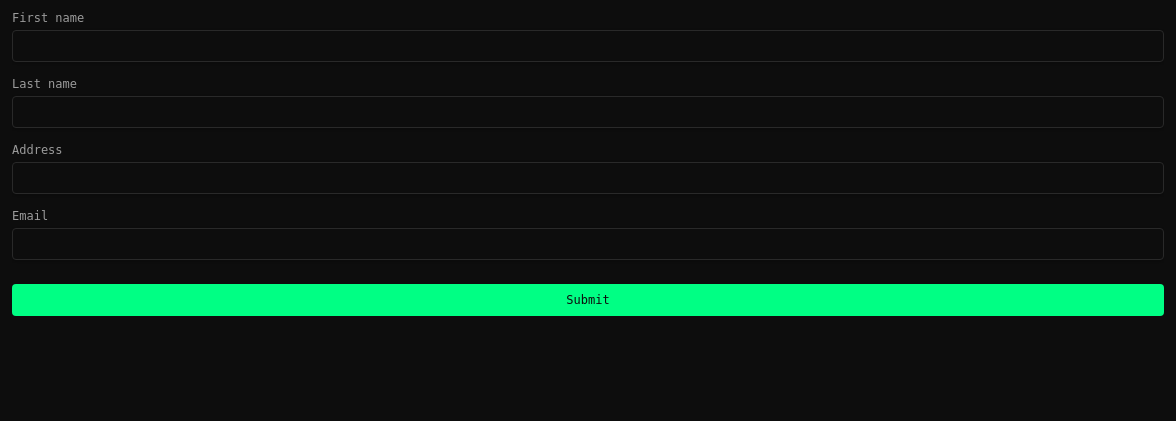
RegistrationForm › RegistrationForm - submit with empty fields - shows inline errors
Click the button "Submit" at (588, 300), box [12, 284, 1164, 316]
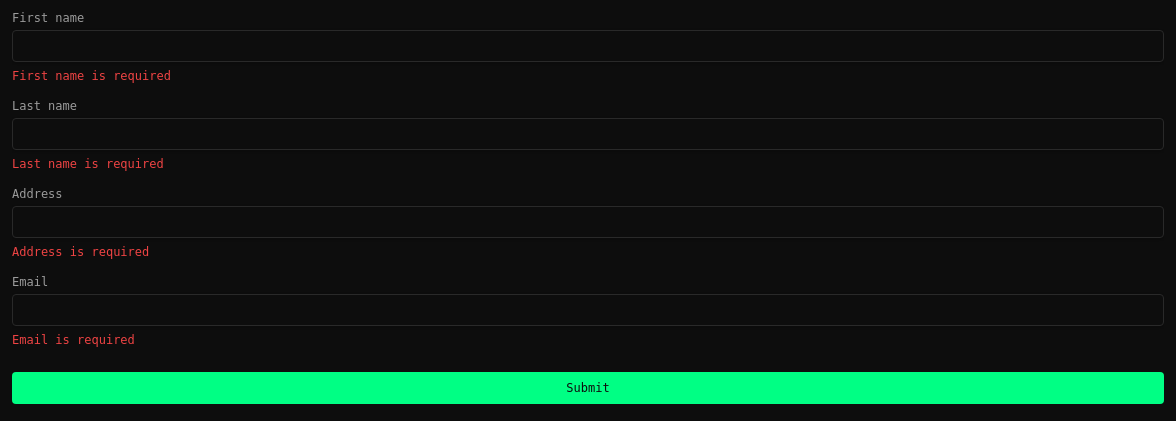
Result: the text "First name is required" is shown at [12, 69, 171, 83]
Result: the text "Last name is required" is shown at [12, 157, 164, 171]
Result: the text "Address is required" is shown at [12, 245, 149, 259]
